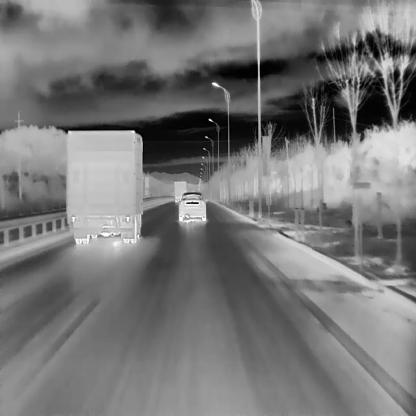car: (178, 190, 206, 221)
truck: (66, 128, 147, 243), (174, 180, 185, 201)
